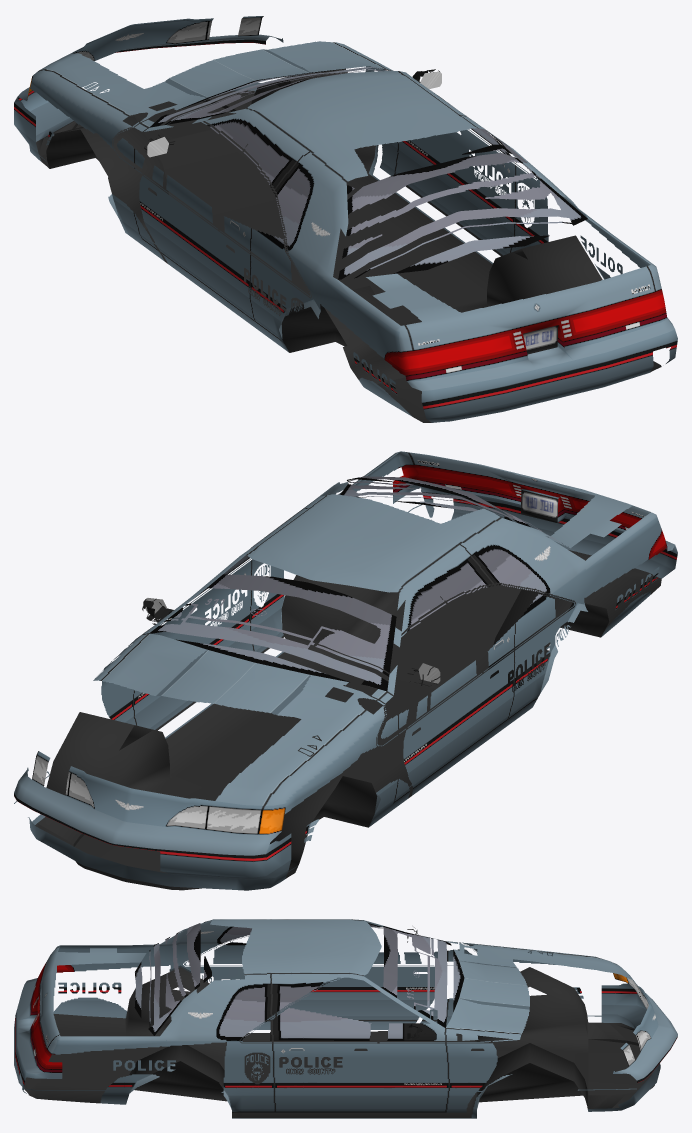
The model's file is 87fordthunderbird.fbx.
3 views of the same model, one above another, from view 1: azimuth 30°, elevation 25°; view 2: azimuth 150°, elevation 25°; view 3: azimuth 270°, elevation 25° (orthographic). The views are drawn at different scales.
Visible parts, largest first — view 1: 87thunderbird; view 2: 87thunderbird; view 3: 87thunderbird.
Part boxes in pixels (x1,y1,x2,y2): 87thunderbird: [14, 16, 677, 422]; 87thunderbird: [14, 451, 677, 890]; 87thunderbird: [14, 919, 677, 1118].
Size of the model in its own units: 1.9 by 1.09 by 4.97.
